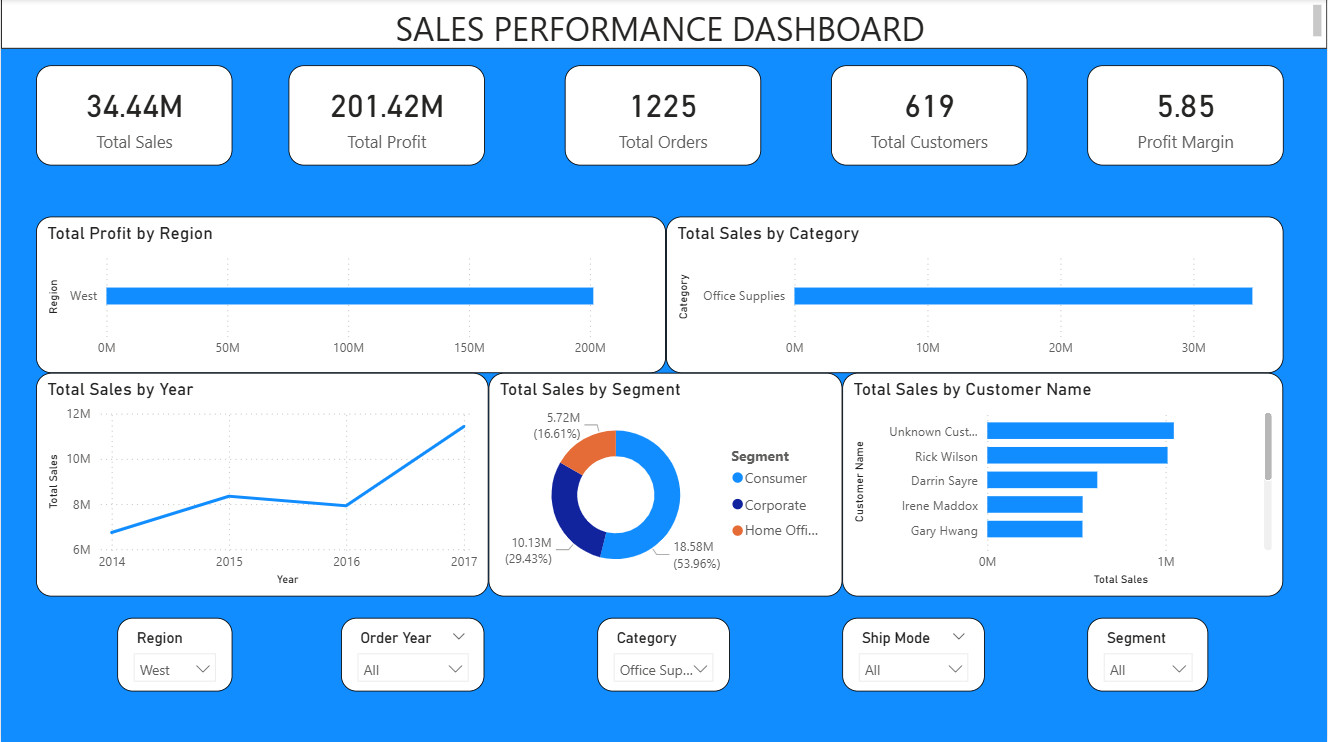

The dashboard page shown, as its layout file describes it:
{"tool":"powerbi","page":{"name":"Page 1","canvas":[1280,720],"ordinal":0},"visuals":[{"type":"textbox","box":[0,0,1280.3,48],"z":0},{"type":"card","fields":{"Values":["superstore_clean.Total Sales"]},"box":[33.8,63.9,189.4,96.5],"z":1000},{"type":"donutChart","fields":{"Category":["superstore_clean.Segment"],"Y":["superstore_clean.Total Sales"]},"box":[470.5,360.7,341.4,216],"z":2000},{"type":"card","fields":{"Values":["superstore_clean.Total Profit"]},"box":[277.5,63.9,189.4,96.5],"z":3000},{"type":"card","fields":{"Values":["superstore_clean.Total Orders"]},"box":[544.1,63.9,189.4,96.5],"z":4000},{"type":"card","fields":{"Values":["superstore_clean.Total Customers"]},"box":[801.1,63.9,189.4,96.5],"z":5000},{"type":"card","fields":{"Values":["superstore_clean.Profit Margin"]},"box":[1048.4,63.9,189.4,96.5],"z":6000},{"type":"clusteredBarChart","fields":{"Category":["superstore_clean.Region"],"Y":["superstore_clean.Total Profit"]},"box":[33.8,209.9,608,150.8],"z":7000},{"type":"clusteredBarChart","fields":{"Category":["superstore_clean.Category"],"Y":["superstore_clean.Total Sales"]},"box":[641.8,209.9,596,150.8],"z":8000},{"type":"barChart","fields":{"Category":["superstore_clean.Customer Name"],"Y":["superstore_clean.Total Sales"]},"box":[811.9,360.7,425.9,216],"z":9000},{"type":"lineChart","fields":{"Category":["superstore_clean.Order Date.Variation.Date Hierarchy.Year","superstore_clean.Order Date.Variation.Date Hierarchy.Quarter","superstore_clean.Order Date.Variation.Date Hierarchy.Month","superstore_clean.Order Date.Variation.Date Hierarchy.Day"],"Y":["superstore_clean.Total Sales"]},"box":[33.8,360.7,436.7,216],"z":10000},{"type":"slicer","fields":{"Values":["superstore_clean.Order Year"]},"box":[328.2,597.2,138.7,71.2],"z":11000},{"type":"slicer","fields":{"Values":["superstore_clean.Region"]},"box":[112.2,597.2,111,71.2],"z":12000},{"type":"slicer","fields":{"Values":["superstore_clean.Category"]},"box":[575.5,597.2,127.9,71.2],"z":13000},{"type":"slicer","fields":{"Values":["superstore_clean.Segment"]},"box":[1048.4,597.2,117,71.2],"z":14000},{"type":"slicer","fields":{"Values":["superstore_clean.Ship Mode"]},"box":[811.9,597.2,137.5,71.2],"z":15000}]}

Visuals, with their boxes in screenshot pixels (x1, y1, x2, y2), scaled from the page's 1280x720 canvas onto the 1328x742 screenshot:
textbox: region(0, 0, 1327, 49)
card - superstore_clean.Total Sales: region(35, 66, 232, 165)
donutChart - superstore_clean.Segment x superstore_clean.Total Sales: region(488, 372, 842, 594)
card - superstore_clean.Total Profit: region(288, 66, 484, 165)
card - superstore_clean.Total Orders: region(565, 66, 761, 165)
card - superstore_clean.Total Customers: region(831, 66, 1028, 165)
card - superstore_clean.Profit Margin: region(1088, 66, 1284, 165)
clusteredBarChart - superstore_clean.Region x superstore_clean.Total Profit: region(35, 216, 666, 372)
clusteredBarChart - superstore_clean.Category x superstore_clean.Total Sales: region(666, 216, 1284, 372)
barChart - superstore_clean.Customer Name x superstore_clean.Total Sales: region(842, 372, 1284, 594)
lineChart - superstore_clean.Order Date.Variation.Date Hierarchy.Year x superstore_clean.Order Date.Variation.Date Hierarchy.Quarter: region(35, 372, 488, 594)
slicer - superstore_clean.Order Year: region(341, 615, 484, 689)
slicer - superstore_clean.Region: region(116, 615, 232, 689)
slicer - superstore_clean.Category: region(597, 615, 730, 689)
slicer - superstore_clean.Segment: region(1088, 615, 1209, 689)
slicer - superstore_clean.Ship Mode: region(842, 615, 985, 689)
